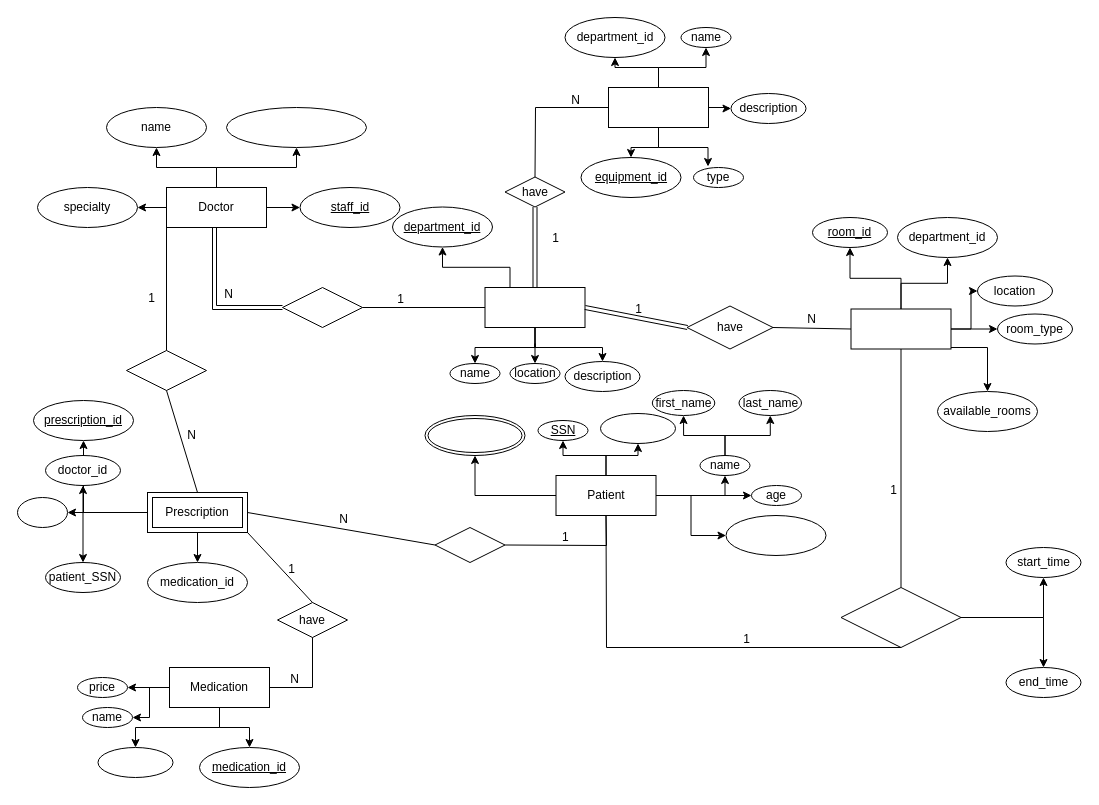
Some shapes in this 1099 by 805 pixel diagram are drawn without their labels. Here are the shapes that lost their labels. From the top down, the centre of each, then its label:
point 296,127: years_of_experience
point 658,107: Equipment
point 322,307: work
point 534,307: Department
point 900,328: Room
point 166,370: prescribe
point 474,435: phone_number
point 638,428: address
point 42,512: date
point 469,544: receive
point 775,535: date_of_birth
point 900,617: assign
point 135,762: discription
